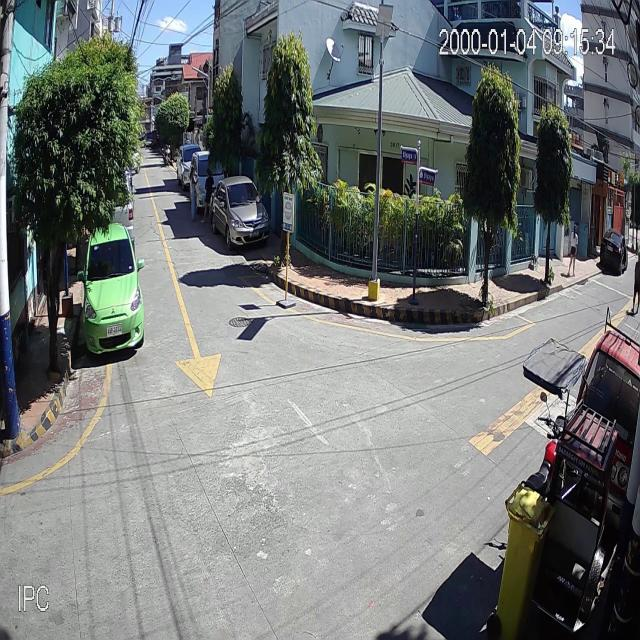standing: (200, 167, 214, 224), (188, 166, 201, 221)
walking: (629, 252, 640, 317), (567, 223, 579, 279)
